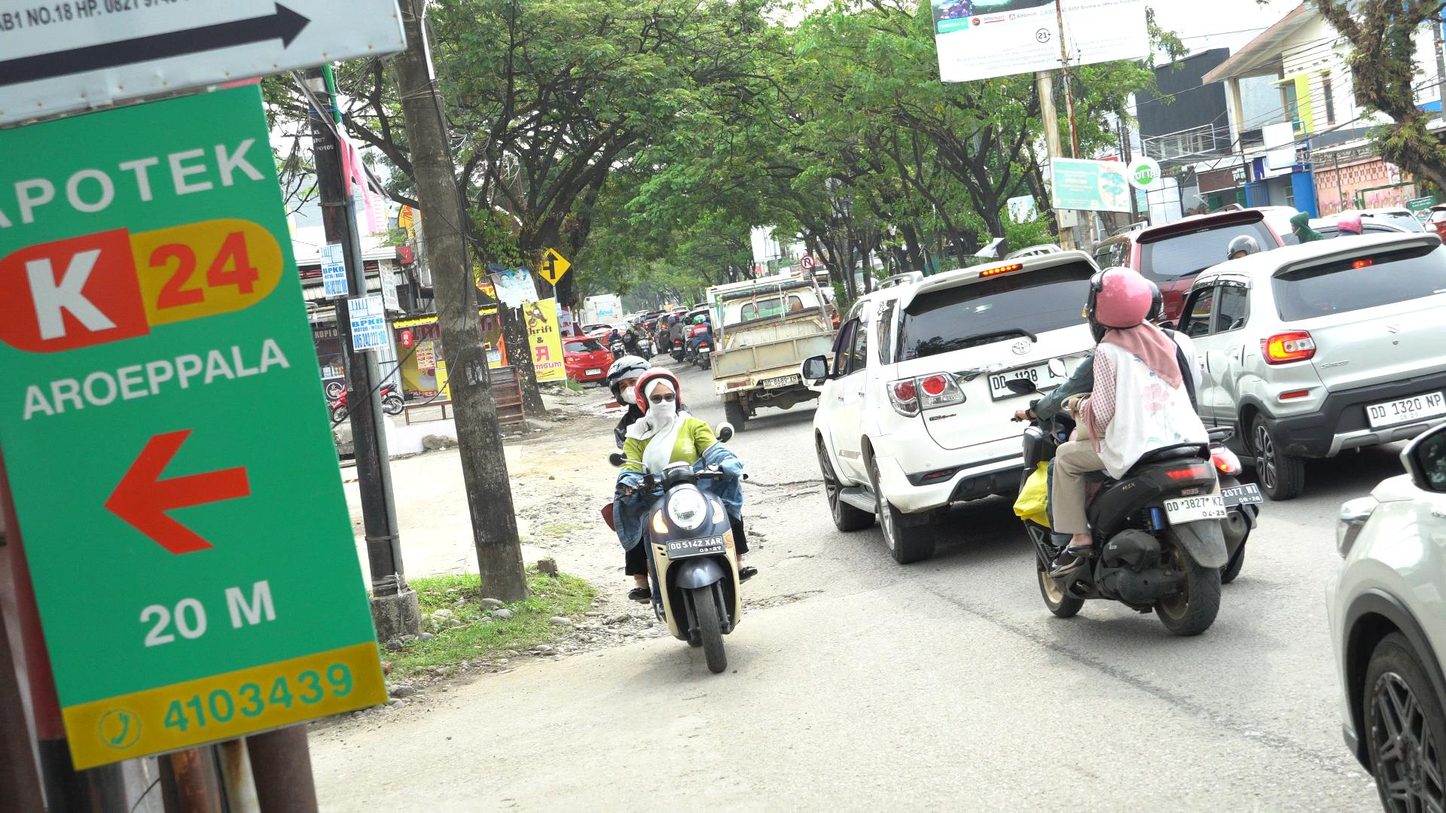number-plate: (663, 533, 726, 563)
